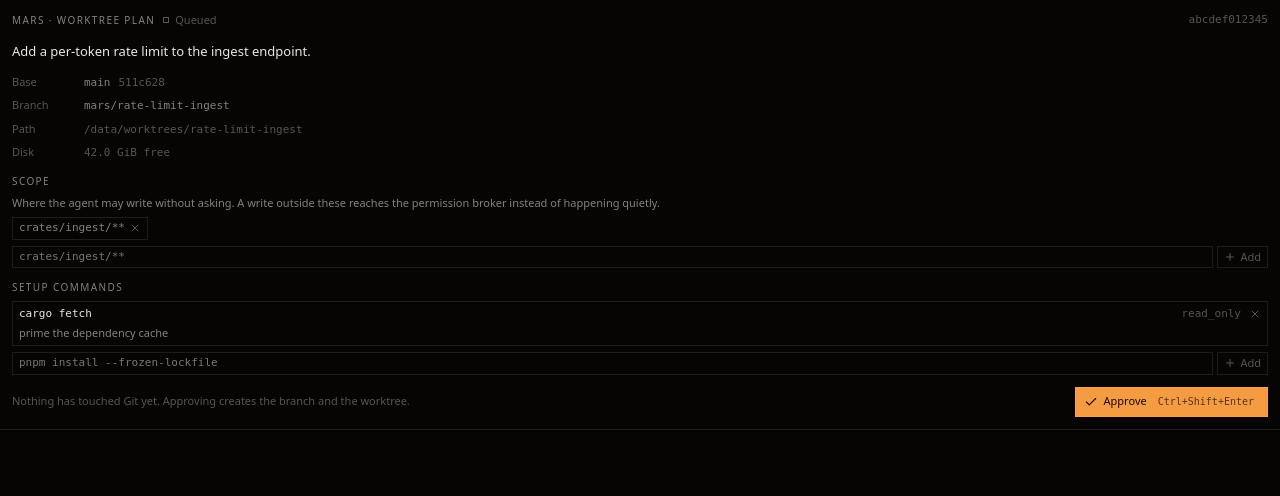
WorktreePlanMessage inline edit › marks a command added here as not yet classified
The width and height of the screenshot is (1280, 496).
In the field named "Add a setup command": (613, 363) left=12, top=352, right=1213, bottom=375, type "rm -rf target"
Then press Enter
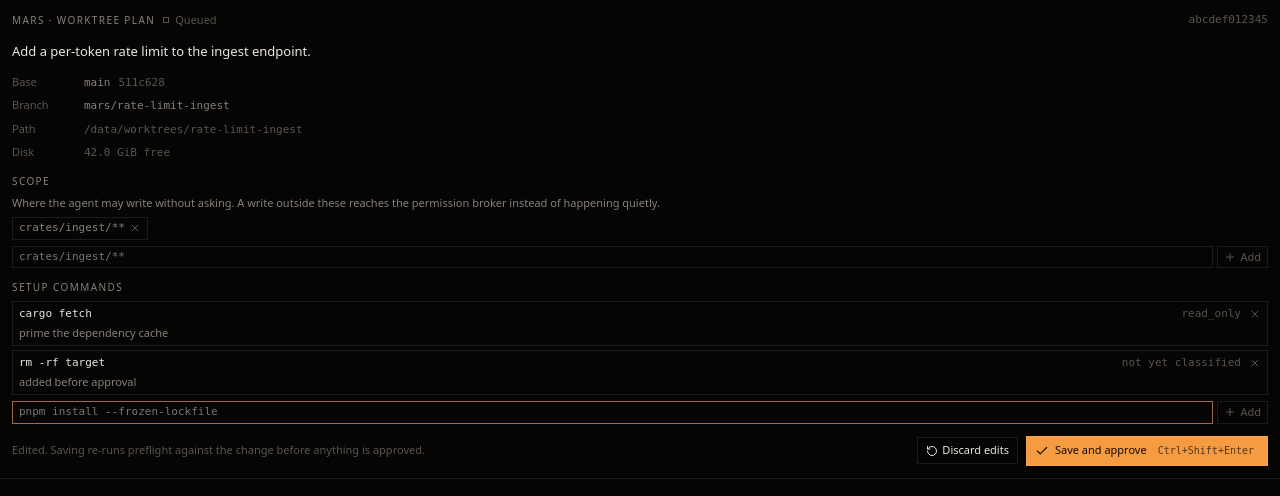
expect the text "not yet classified" is shown: met, box left=1122, top=355, right=1241, bottom=372
